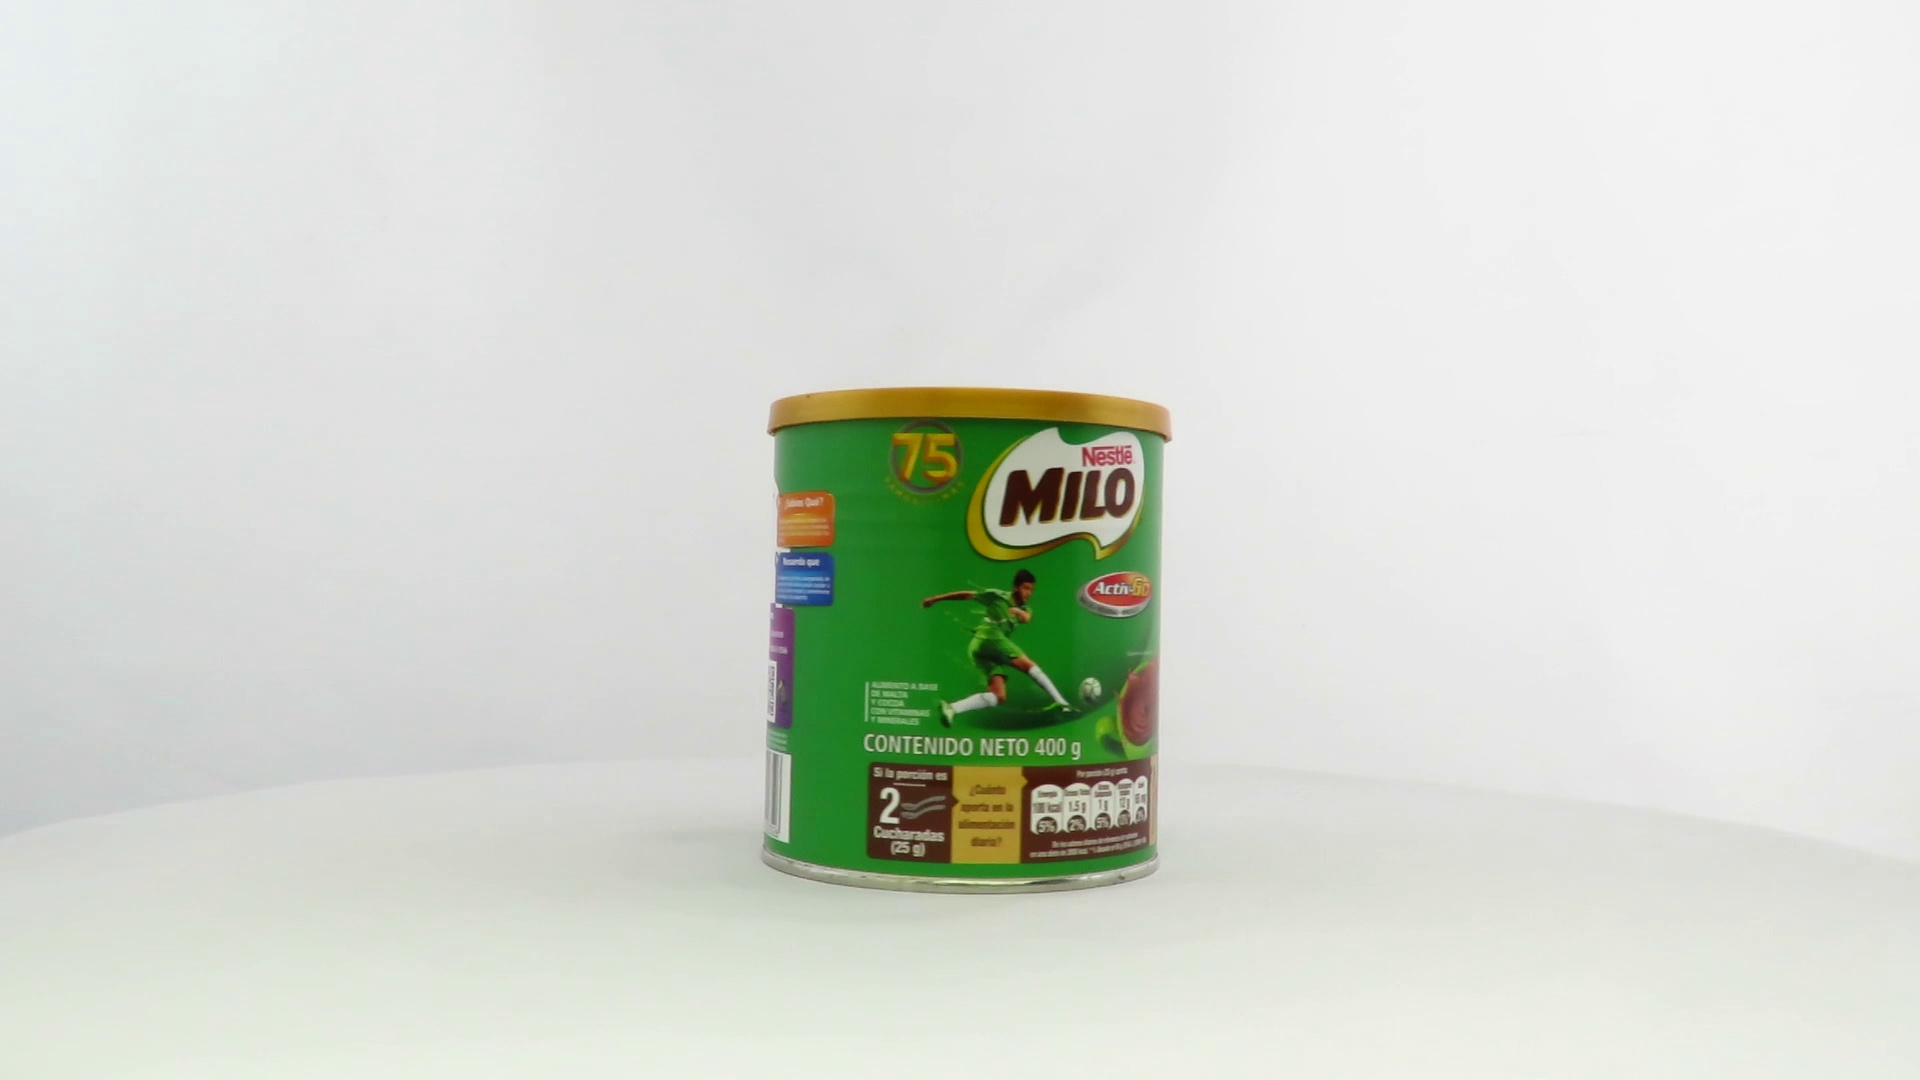COL0170203LAT40000: (754, 381, 1178, 901)
